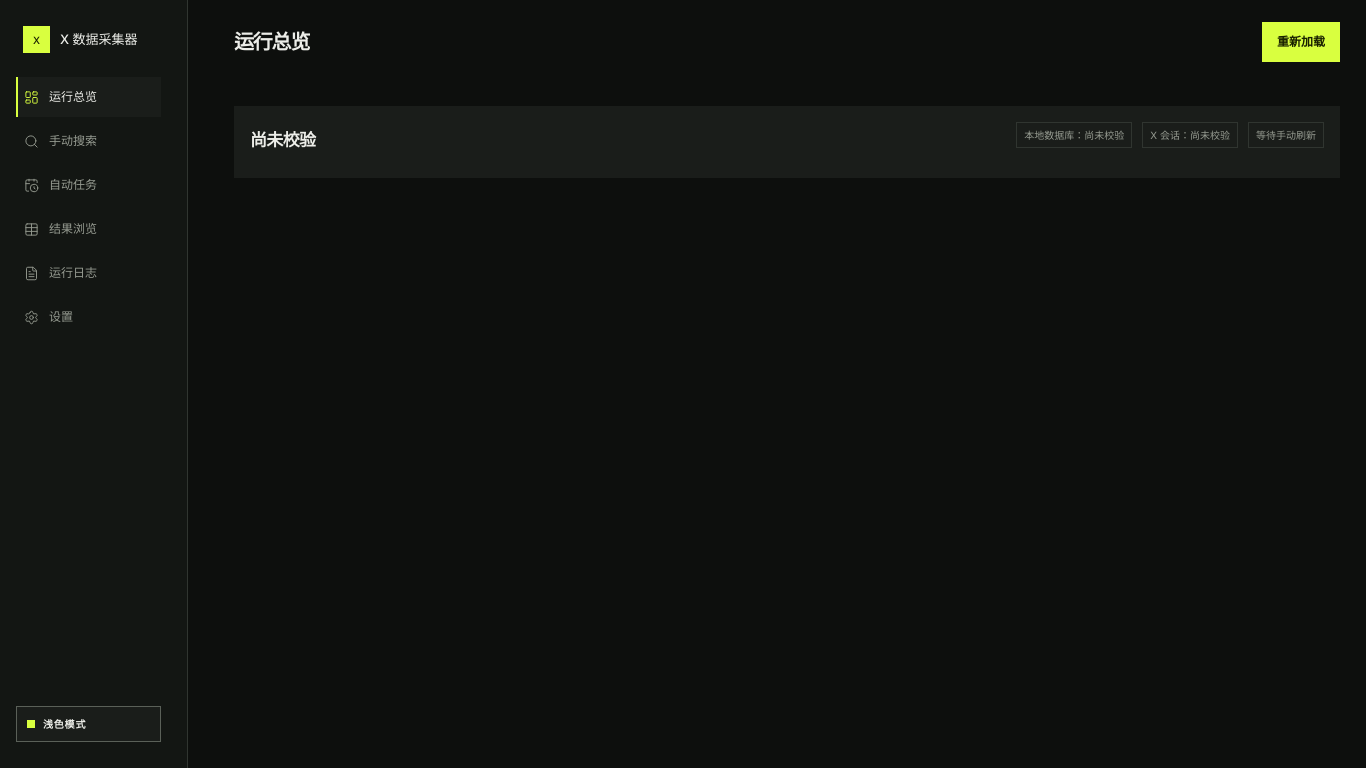
Test: App › renders the fixed rail shell structure
Expected: the element with test id "sidebar-rail" is shown, [0,0,188,767]
Expected: the navigation bar with test id "sidebar-nav" is shown, [16,77,161,337]
Click the button with test id "theme-toggle".
click(88, 724)  # box [16,706,161,742]
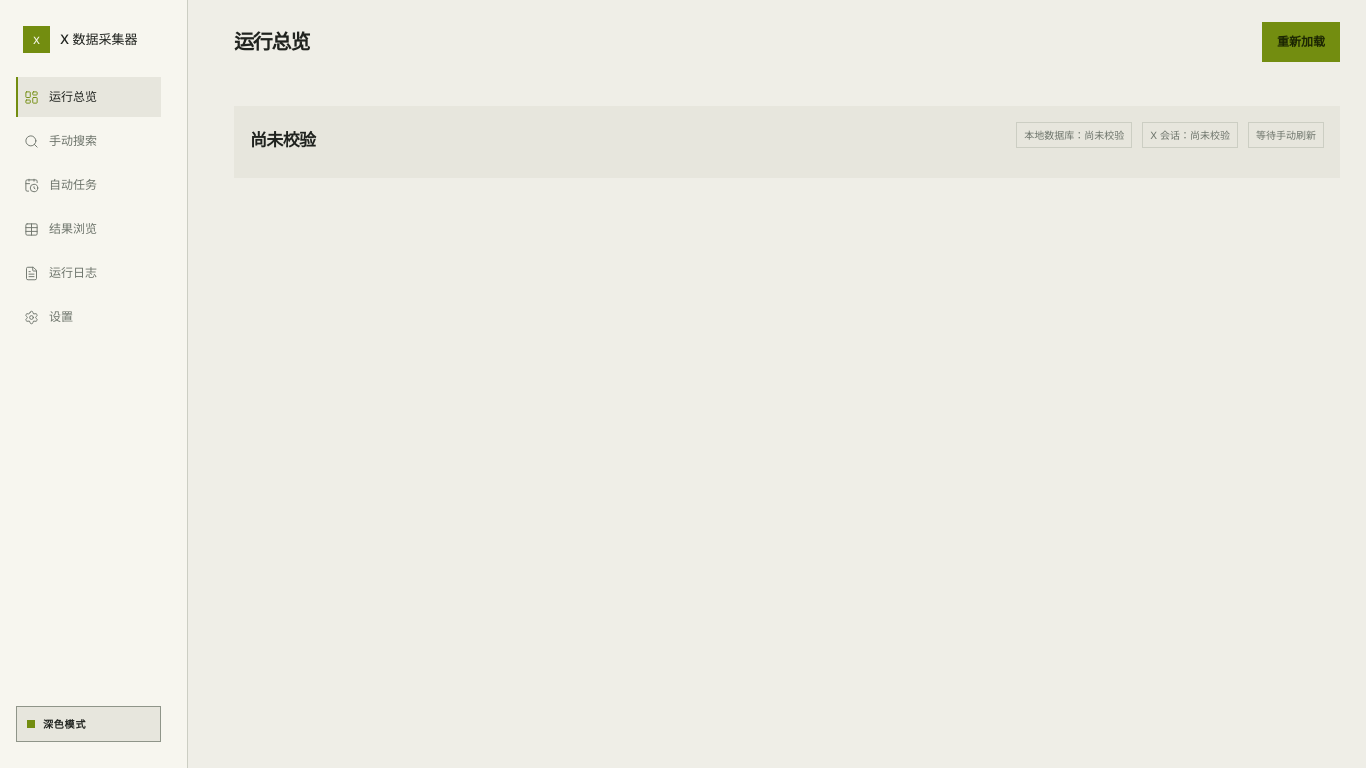
Expected: the button with test id "theme-toggle" reads "深色模式", [16,706,161,742]
